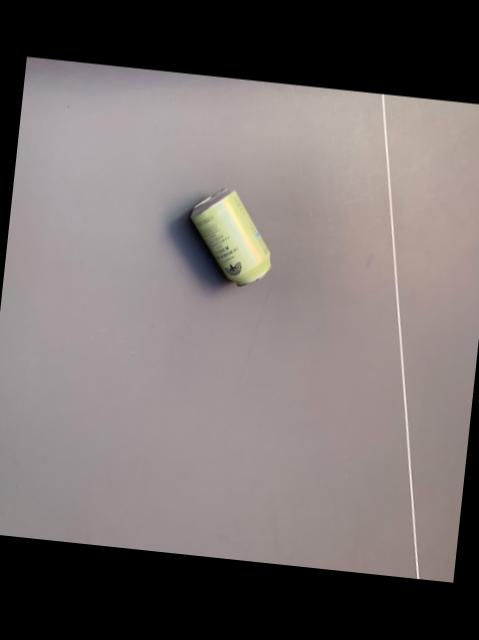metal: (190, 190, 270, 287)
